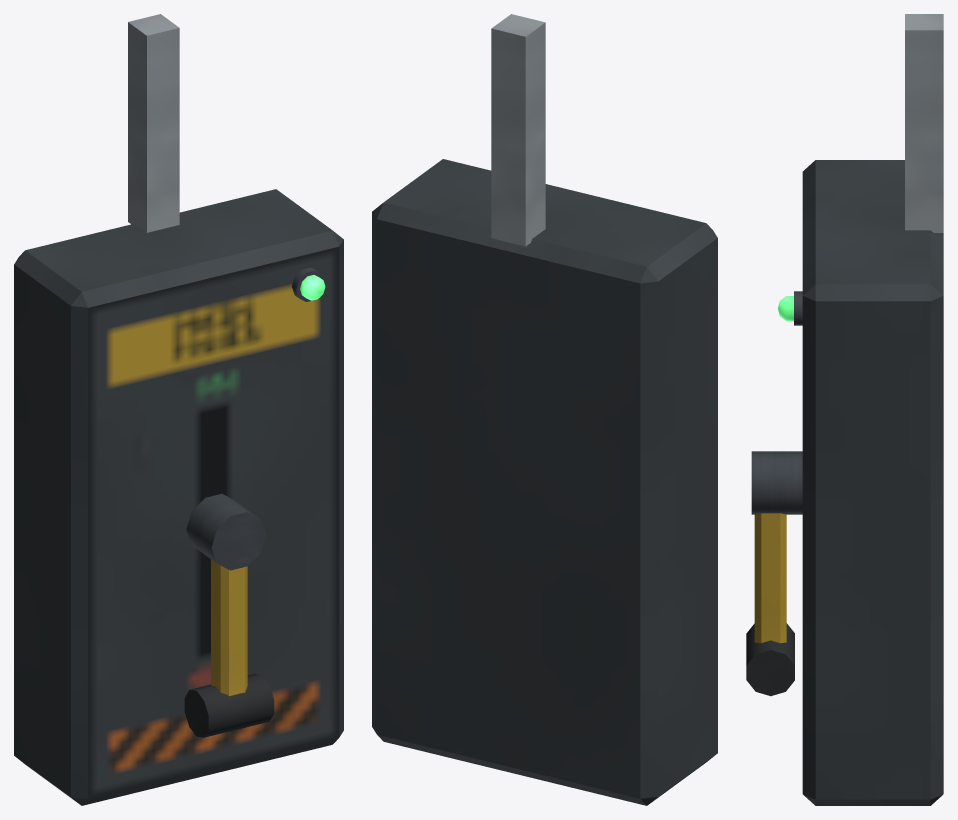
Rendered from breaker_ss.fbx.
The picture shows the model from 3 angles, left to right: view 1: azimuth 30°, elevation 25°; view 2: azimuth 150°, elevation 25°; view 3: azimuth 270°, elevation 25°; orthographic projection. The views are drawn at different scales.
Visible parts, largest first — view 1: breaker_ss, breaker_ss_lever; view 2: breaker_ss; view 3: breaker_ss, breaker_ss_lever.
Part boxes in pixels (x1,y1,x2,y2): breaker_ss: [14, 14, 343, 805]; breaker_ss_lever: [184, 559, 274, 737]; breaker_ss: [372, 14, 717, 805]; breaker_ss: [751, 14, 943, 805]; breaker_ss_lever: [746, 513, 794, 696].
Size of the model in its own units: 0.5 by 1.25 by 0.308.
1 material, 1 textured.
